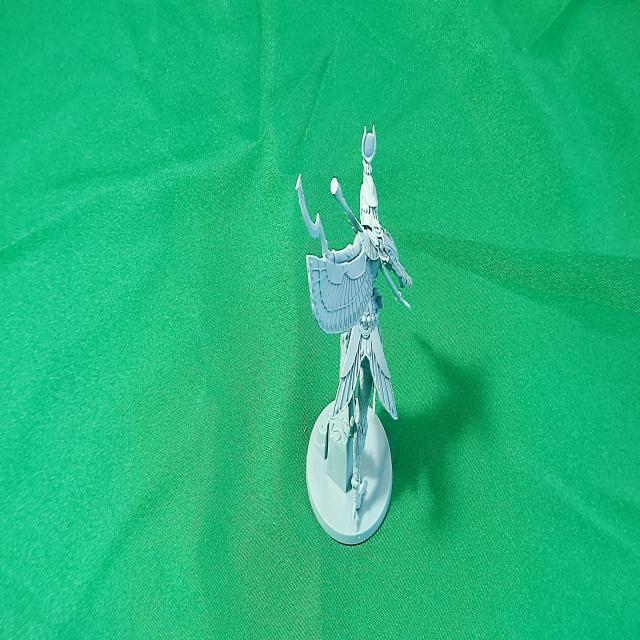isis: (294, 96, 422, 589)
